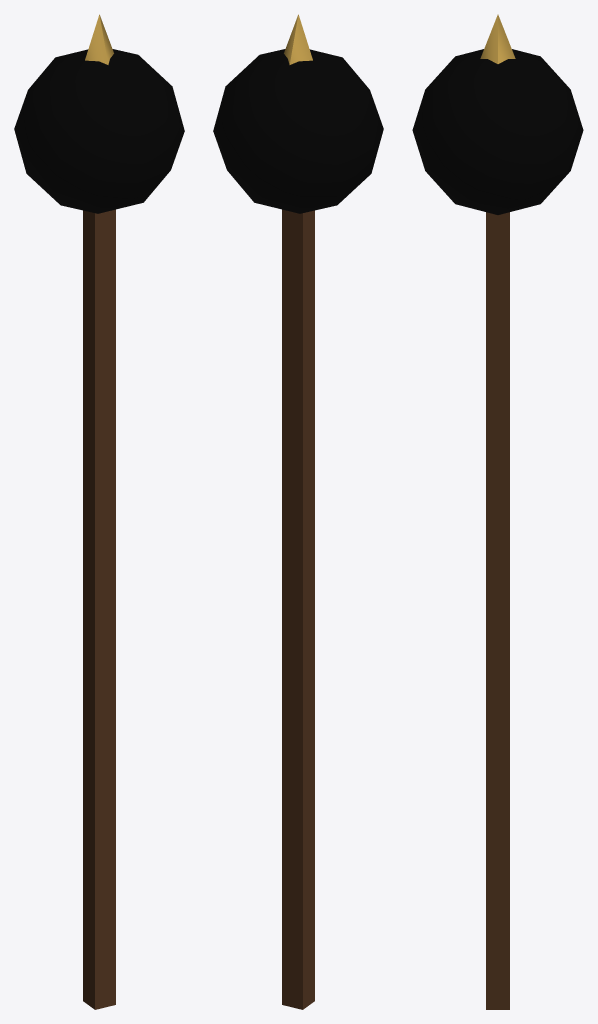
The model's file is BO_SM_EnemyWeapon_Staff_v001.glb.
The picture shows the model from 3 angles, left to right: view 1: azimuth 30°, elevation 25°; view 2: azimuth 150°, elevation 25°; view 3: azimuth 270°, elevation 25°; orthographic projection.
Visible parts, largest first — view 1: body_000, glowfx_004, body_002; view 2: body_000, glowfx_004, body_002; view 3: glowfx_004, body_000, body_002.
Boxes of the visible parts, bbox=[...] form: body_000: bbox=[83, 209, 115, 1009]; glowfx_004: bbox=[14, 49, 184, 213]; body_002: bbox=[85, 14, 113, 64]; body_000: bbox=[282, 209, 314, 1009]; glowfx_004: bbox=[213, 49, 383, 213]; body_002: bbox=[284, 14, 312, 64]; glowfx_004: bbox=[412, 49, 583, 214]; body_000: bbox=[486, 212, 509, 1009]; body_002: bbox=[480, 14, 515, 63].
Size of the model in its own units: 0.32 by 2.05 by 0.32.
